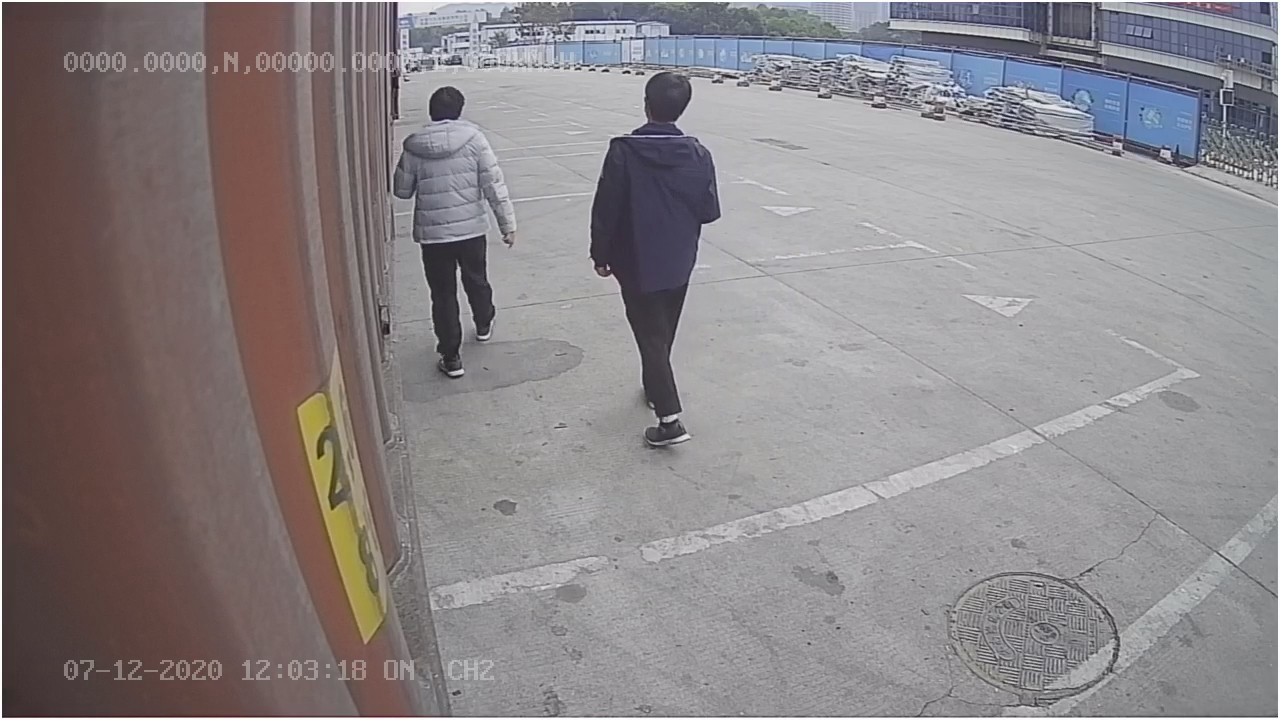person: (587, 68, 722, 447), (395, 83, 519, 379)
